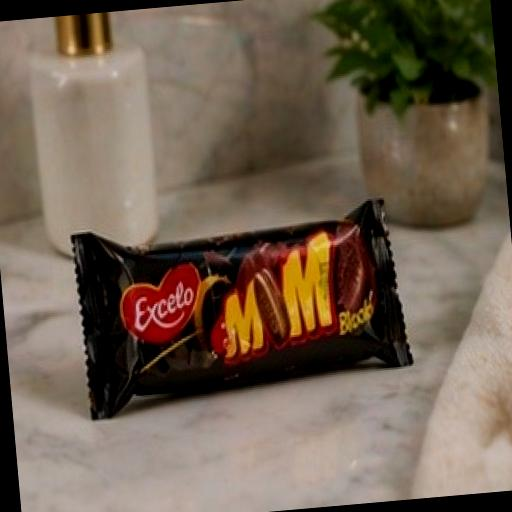MOMO: (22, 142, 452, 478)
